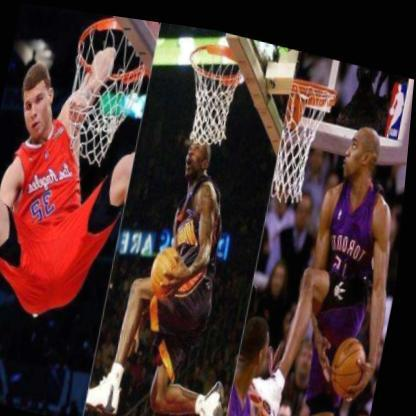basketball: (333, 322, 374, 391)
rim: (59, 8, 153, 166), (272, 66, 340, 201), (174, 31, 244, 144)
